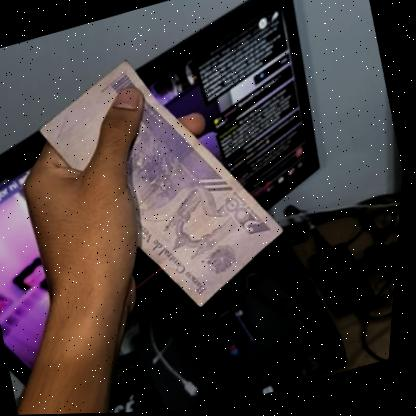ten-back-vef: (17, 26, 311, 342)
